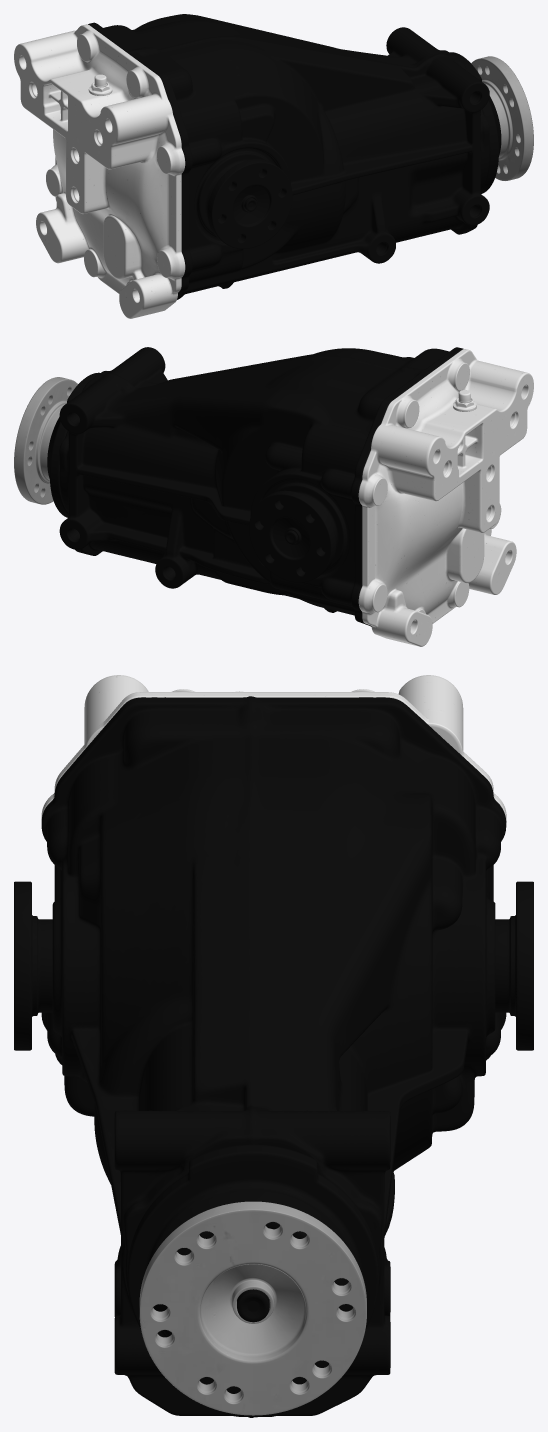
File: drivetrain_differential_a01.glb
The picture shows the model from 3 angles, top to bottom: view 1: azimuth 30°, elevation 25°; view 2: azimuth 150°, elevation 25°; view 3: azimuth 270°, elevation 25°; orthographic projection. The views are drawn at different scales.
Visible parts, largest first — view 1: differential_01_mesh_00; view 2: differential_01_mesh_00; view 3: differential_01_mesh_00.
Boxes of the visible parts, x1=… form: differential_01_mesh_00: x1=14, y1=14, x2=533, y2=318; differential_01_mesh_00: x1=14, y1=347, x2=533, y2=646; differential_01_mesh_00: x1=14, y1=675, x2=533, y2=1417.
Size of the model in its own units: 0.4246 by 0.2293 by 0.2446.
3 materials, 2 textured.
